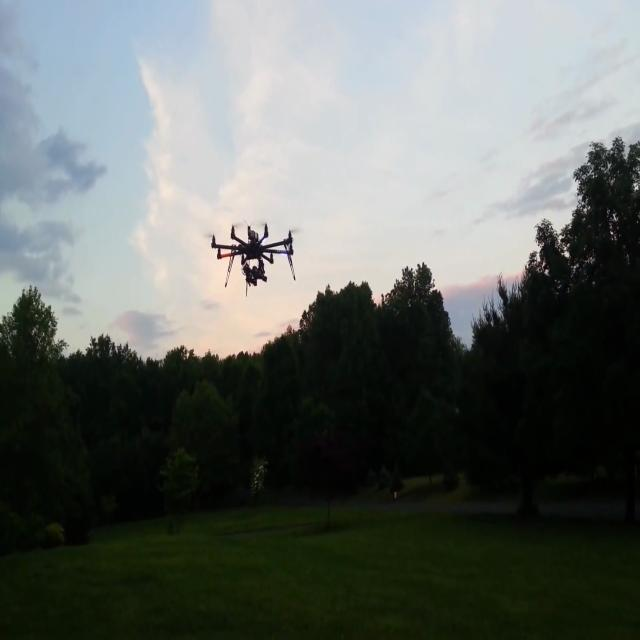drone: (175, 170, 299, 300)
